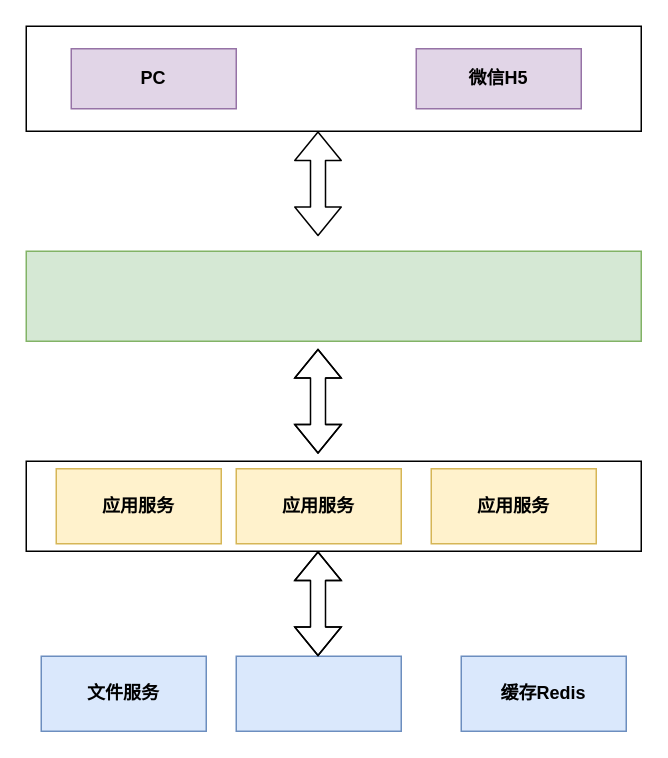
Image size: 668x758. Some labels were removed from this diagram. Here are the shapes that lost their labels. From the top down, the centre of each, then its label:
At point (333, 295): "负载均衡".
At point (318, 693): "数据库MySQL".
